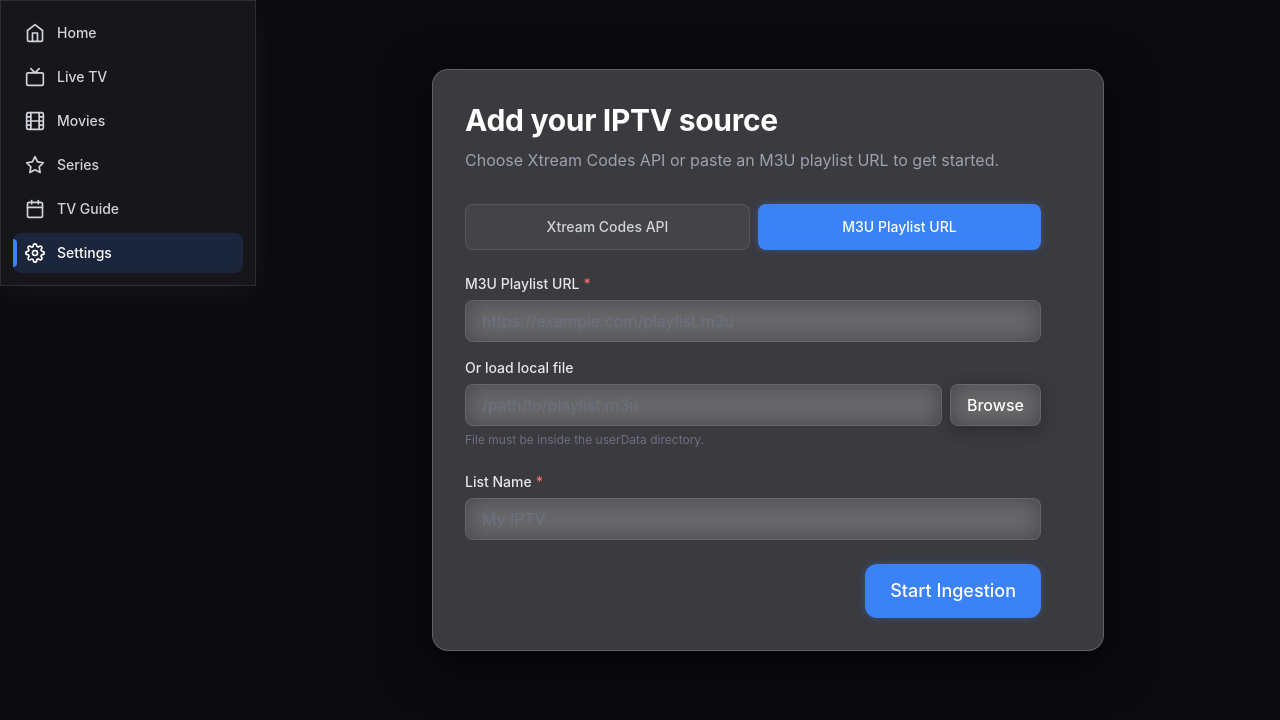
Test: IngestPage › shows a blank form with password show/hide when no source is saved
The image size is (1280, 720).
Click the tab "Xtream Codes API": point(608, 227) x1=465 y1=204 x2=750 y2=250
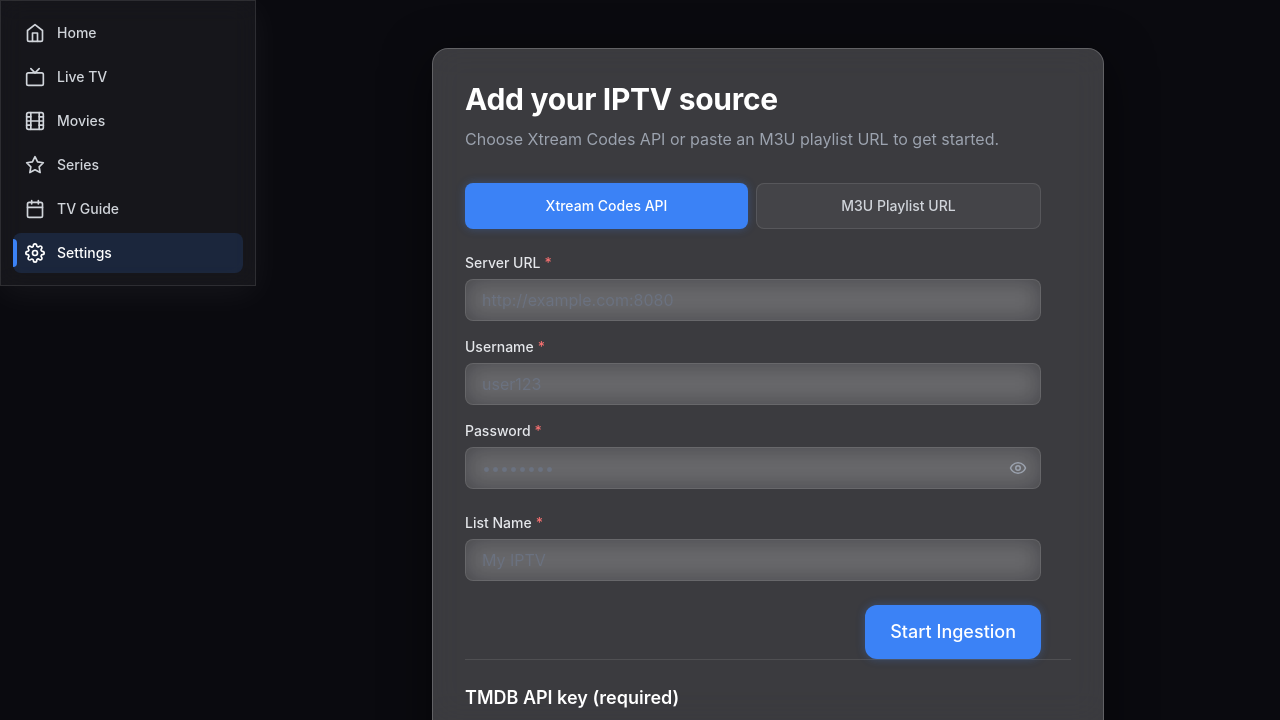
Expected: the password field with id "cf-password" is empty, x1=465 y1=446 x2=1041 y2=488
Expected: the button named "Show password" is shown, x1=1003 y1=452 x2=1033 y2=482
